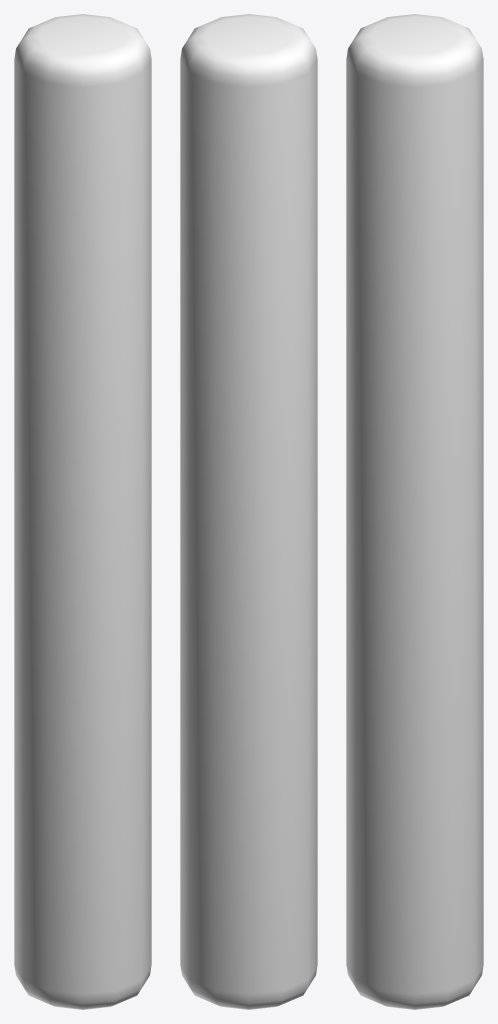
File: foam_pole.fbx
3 renders of one model, left to right at view 1: azimuth 90°, elevation 25°; view 2: azimuth 150°, elevation 25°; view 3: azimuth 270°, elevation 25°, orthographic.
Visible parts, largest first — view 1: 3666_322_mesh; view 2: 3666_322_mesh; view 3: 3666_322_mesh.
Part boxes in pixels (left/top/right/bottom): 3666_322_mesh: left=14, top=14, right=151, bottom=1009; 3666_322_mesh: left=180, top=14, right=317, bottom=1009; 3666_322_mesh: left=346, top=14, right=483, bottom=1009.
Bounding box in the file's own units: 12 × 92 × 12.
Materials: 1 (1 with a texture image).
